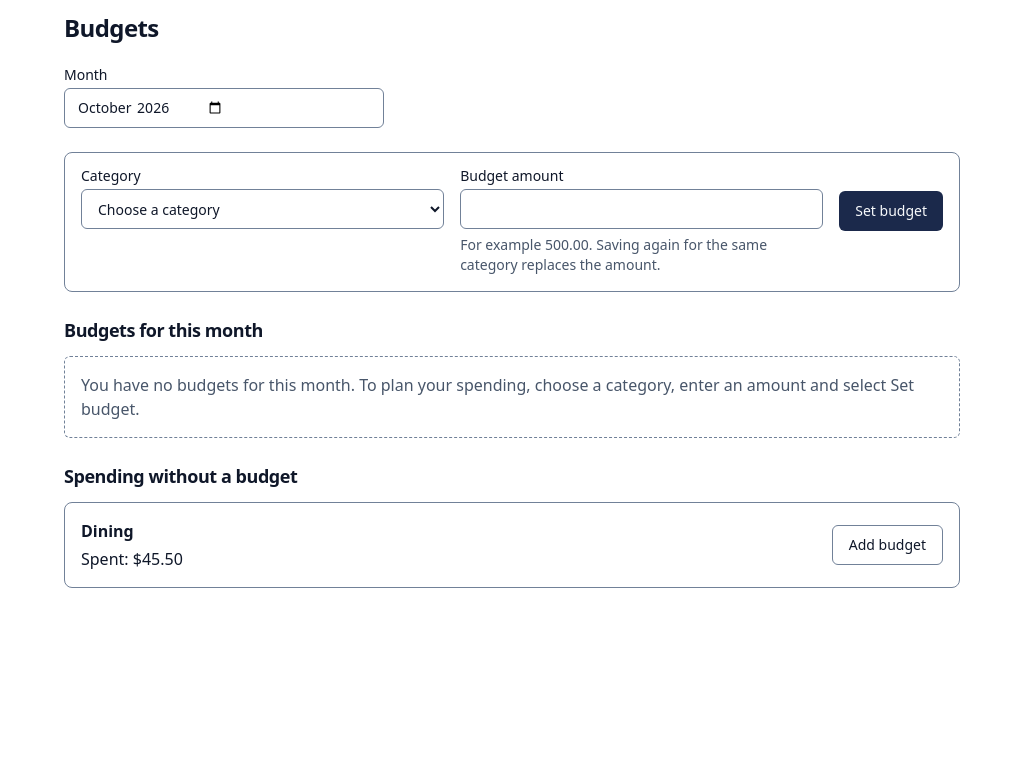
Test: BudgetsPage unbudgeted categories › T-032 "Add budget" preselects the category and focuses the amount field
Check: the field labelled "Budget amount" is shown, box [460,189,823,229]
What coordinates should you click on to do the following:
click the button with aria-label "Add budget for Dining"
I would click on:
 (887, 545)
Its box is [832,525,943,565].
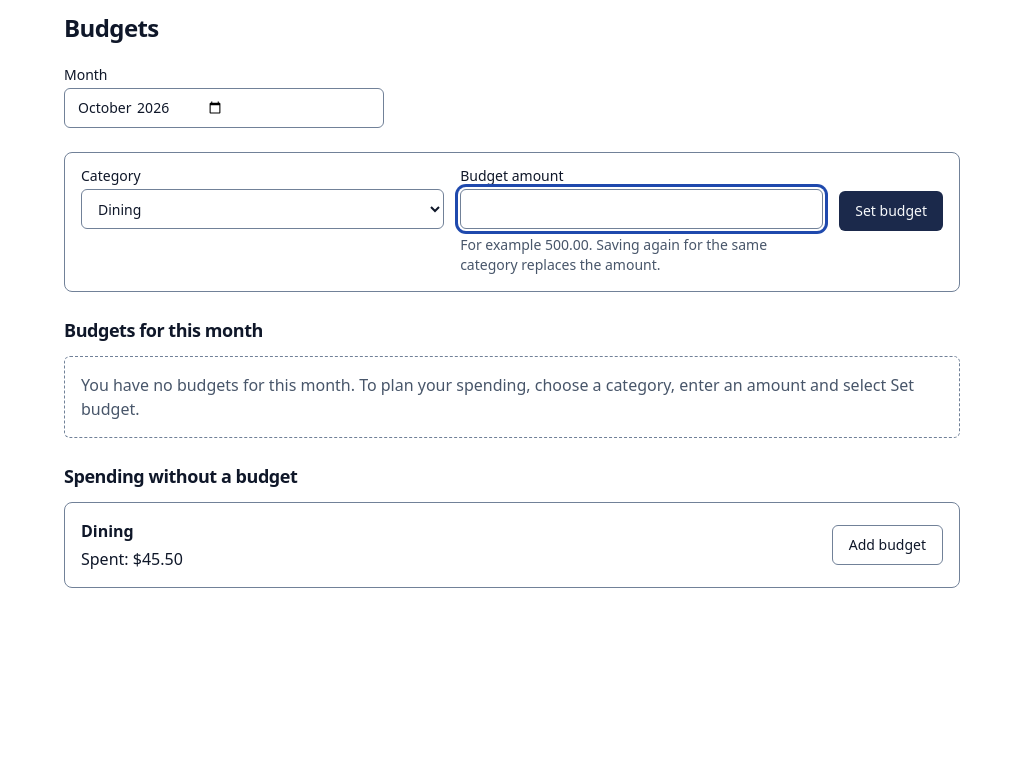
Check: the dropdown labelled "Category" shows "Dining", box [81,189,444,229]
